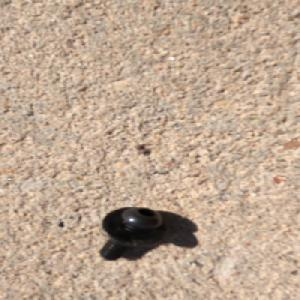BoltWasher: (97, 205, 170, 261)
